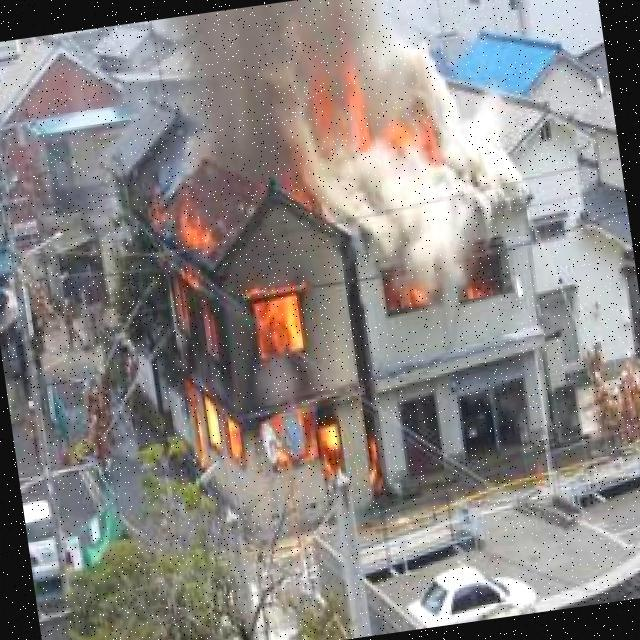Fire: (146, 173, 351, 511), (301, 80, 437, 167), (388, 289, 439, 316)
